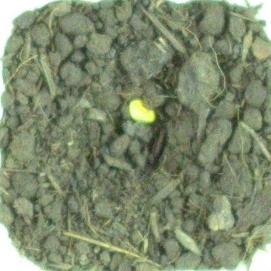chilli seed: (127, 98, 157, 126)
